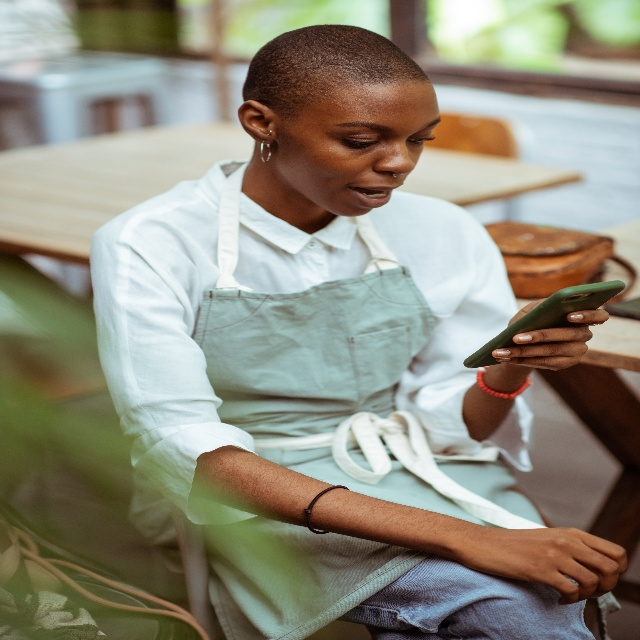Sin_guantes: (474, 518, 631, 600), (489, 292, 610, 376)
